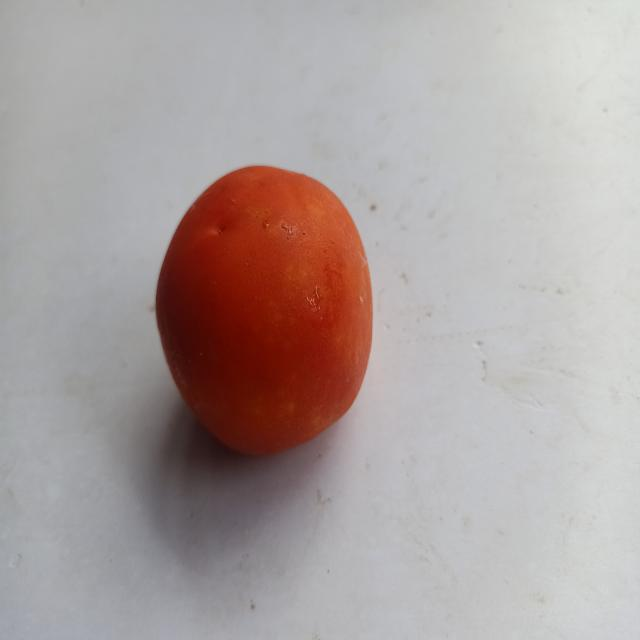Tomato: (132, 135, 384, 478)
